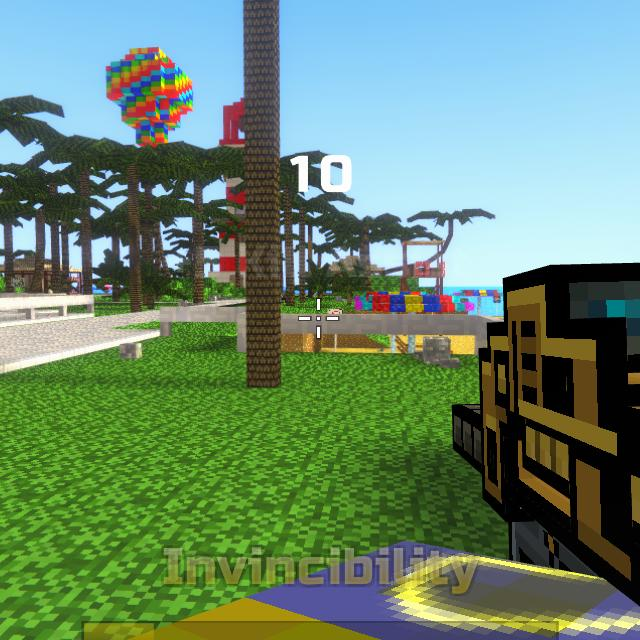Enemy: (71, 278, 78, 292)
